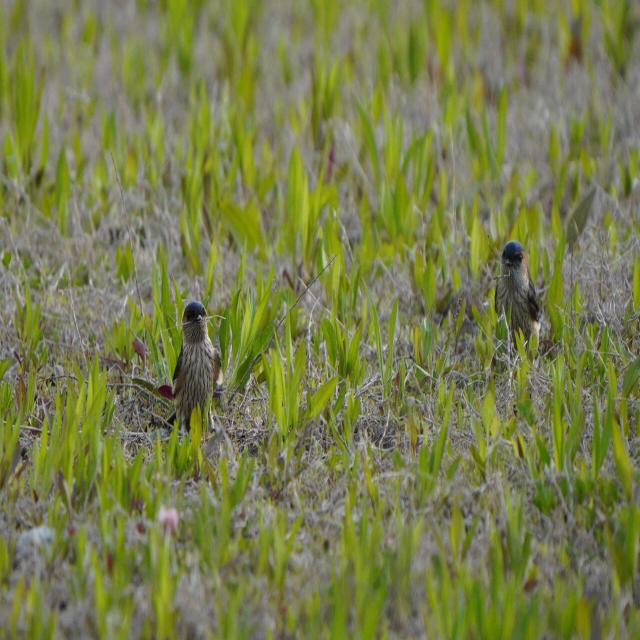bird: (166, 302, 228, 438), (492, 239, 552, 356)
